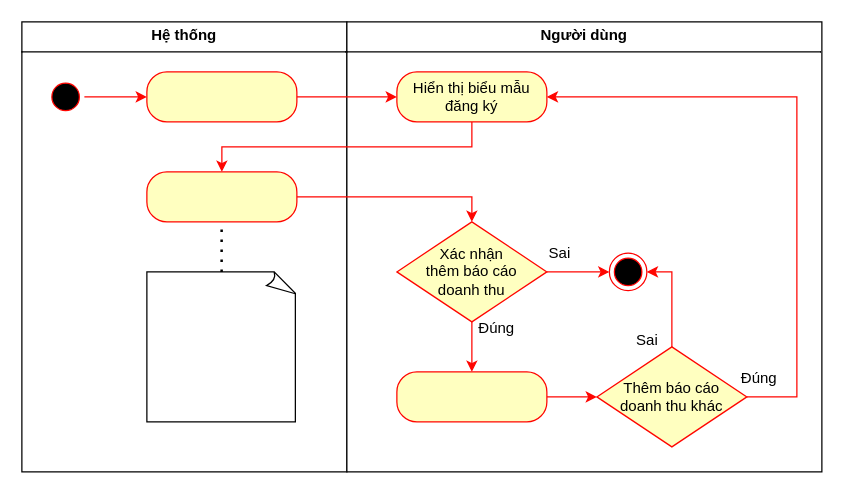
This 844x494 diagram has some shape labels left out. Each missing label, with the centre of its shape:
"Lưu thông tin báo cáo doanh thu vào CSDL" belongs at (471,396).
"Nhập thông tin báo cáo doanh thu" belongs at (221,196).
"Thêm báo cáo doanh thu" belongs at (221,96).
